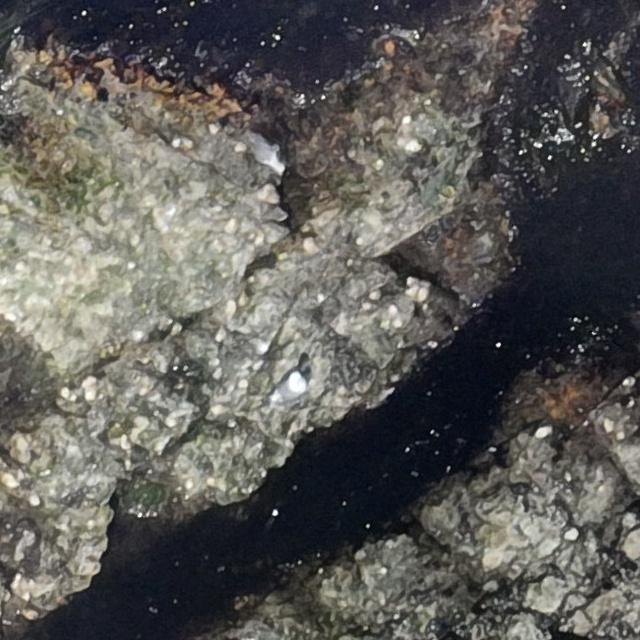umineko: (251, 132, 285, 174), (278, 375, 304, 400)
